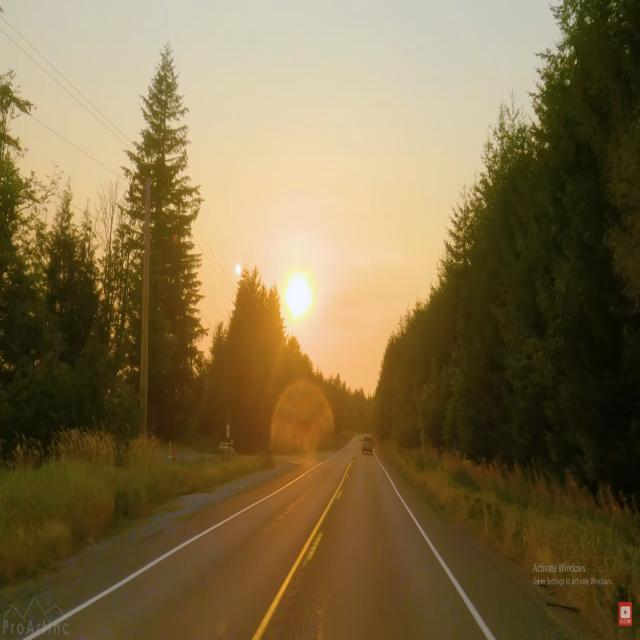sun: (280, 261, 318, 325)
